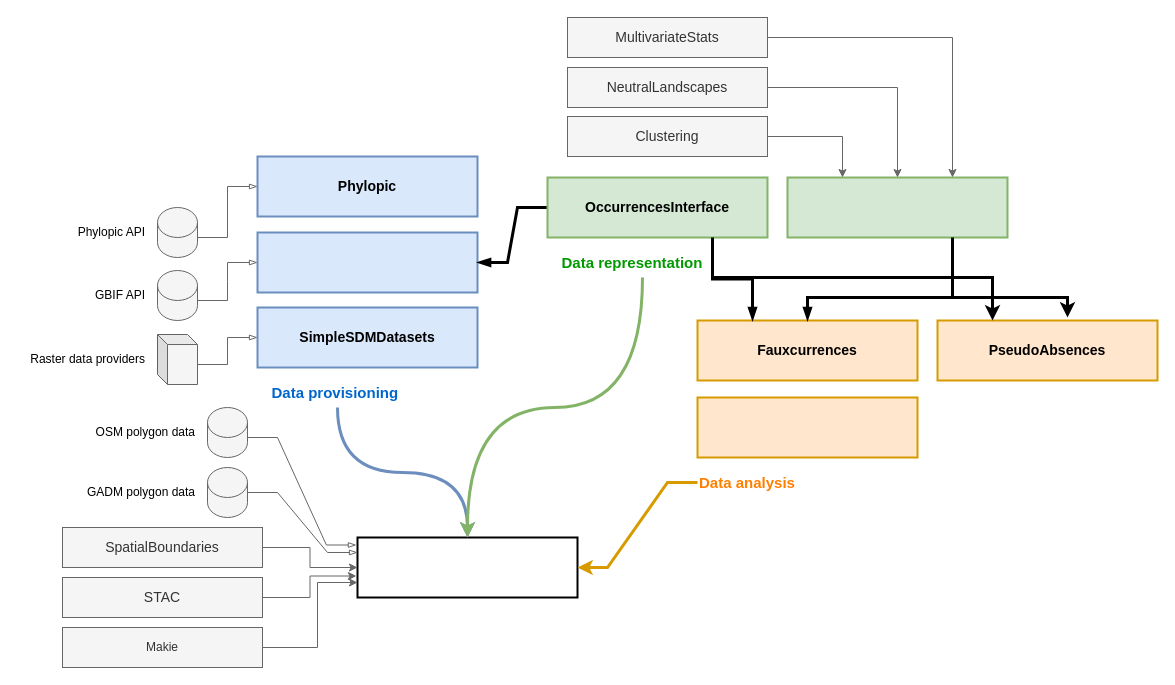
The diagram is 1175 pixels wide and 685 high, and some of its shapes have lost their labels. The centre of each missing label's shape, as x and y in pixels:
"GBIF" belongs at (367,262).
"SDeMo" belongs at (807,427).
"SimpleSDMLayers" belongs at (897,207).
"SpeciesDistributionToolkit" belongs at (467,567).
